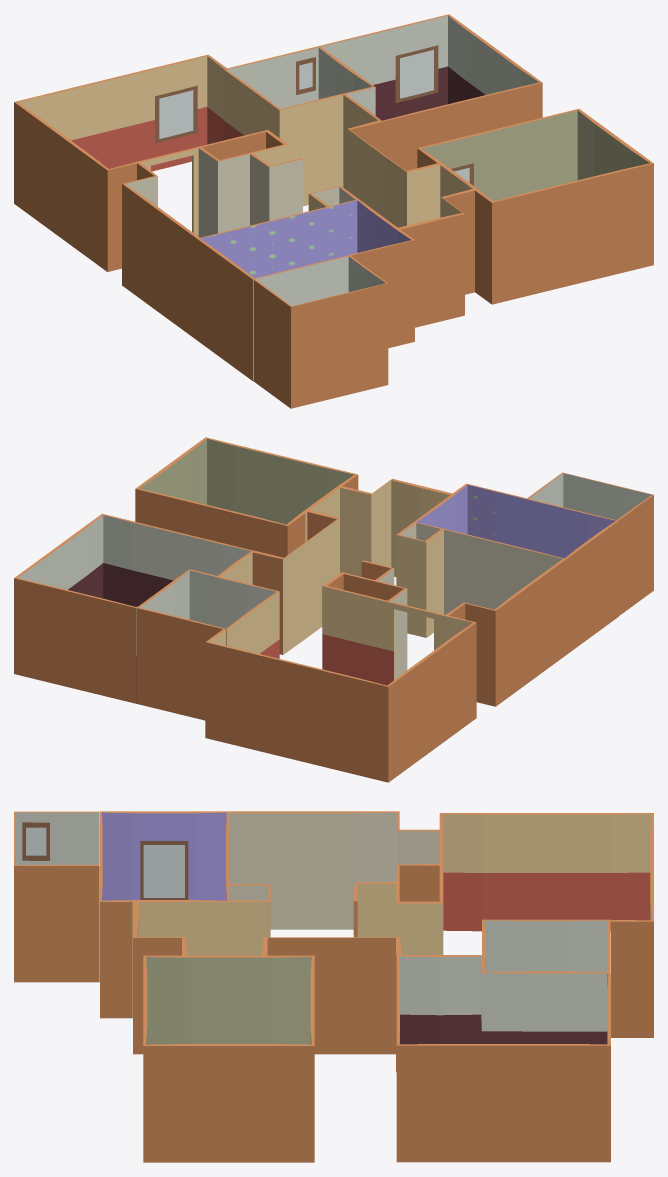
The model's file is N5_Paredes.fbx.
3 renders of one model, top to bottom at view 1: azimuth 30°, elevation 25°; view 2: azimuth 150°, elevation 25°; view 3: azimuth 270°, elevation 25°, orthographic. The views are drawn at different scales.
Visible parts, largest first — view 1: N5_Paredes; view 2: N5_Paredes; view 3: N5_Paredes.
Part boxes in pixels (box(x1,y1,x2,y2)): N5_Paredes: box(14, 14, 653, 408); N5_Paredes: box(14, 437, 653, 782); N5_Paredes: box(14, 811, 653, 1162).
Bounding box in the file's own units: 1296 × 302 × 1494.
Materials: 13 (13 with a texture image).
